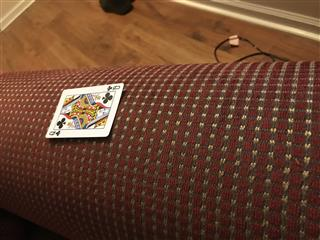QueenOfClubs: (44, 82, 124, 138)
